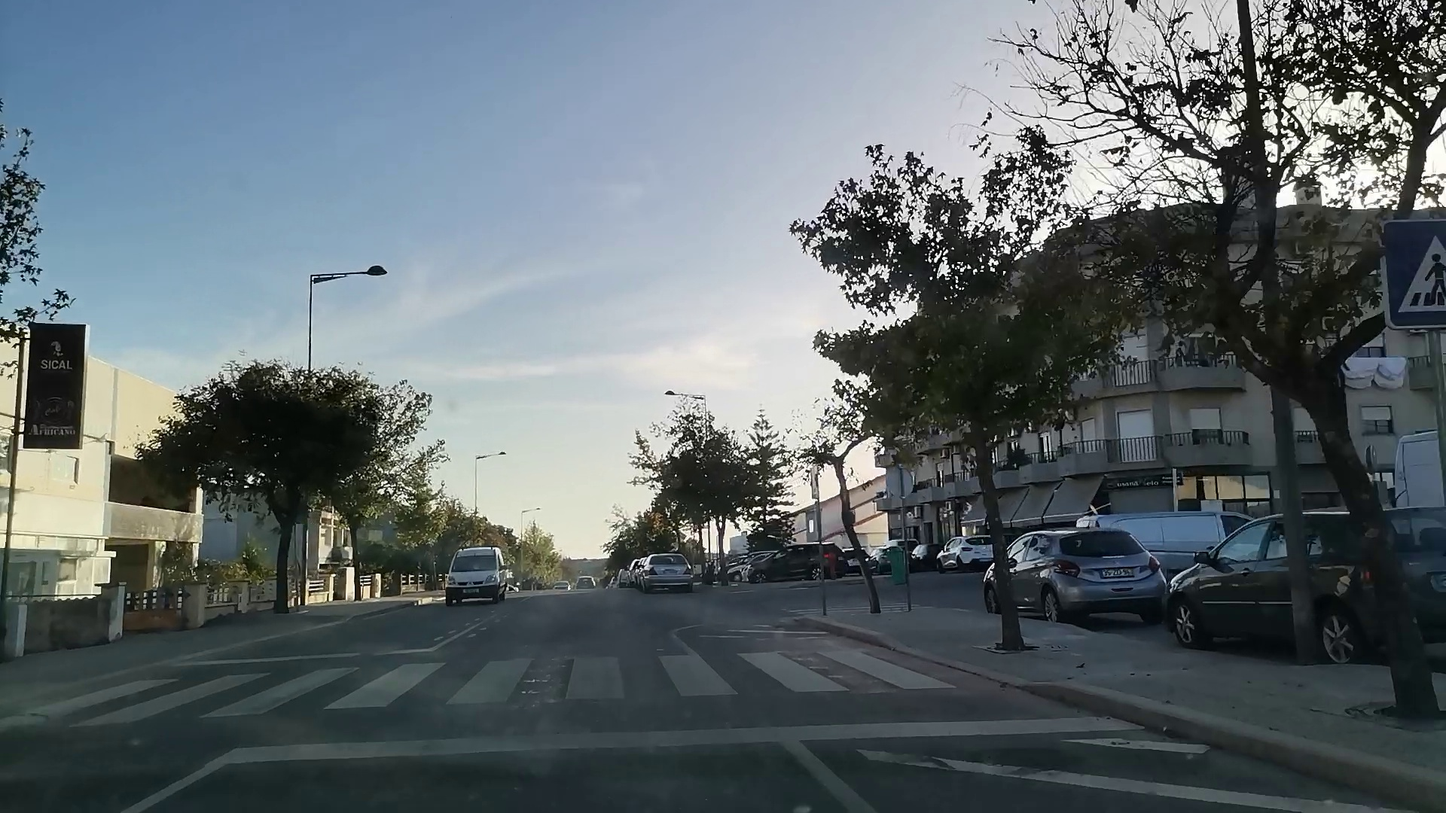Stairs: (32, 647, 979, 730)
